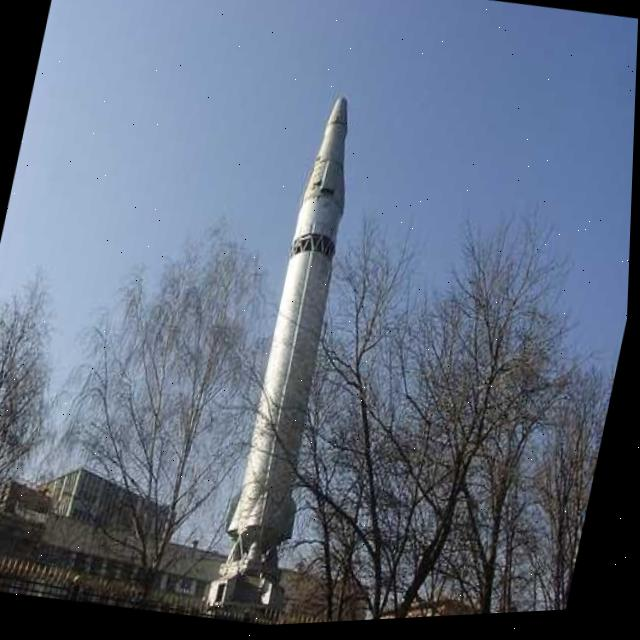missile: (215, 89, 390, 626)
